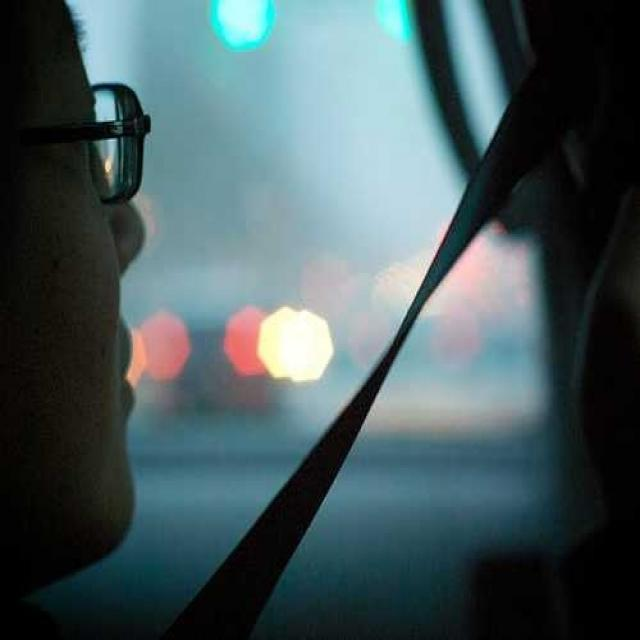seatbelt: (223, 112, 532, 569)
